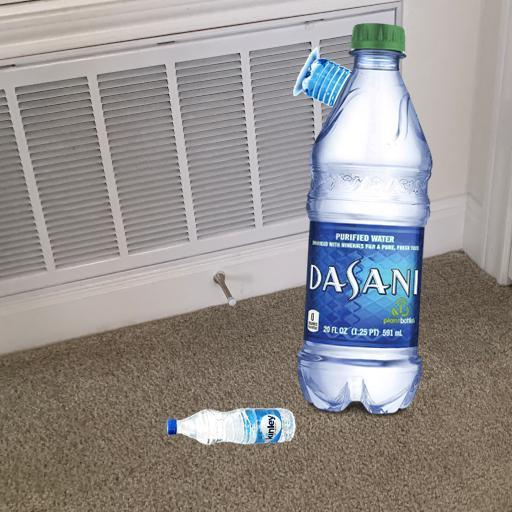bottle: (288, 19, 441, 420), (156, 394, 306, 468)
